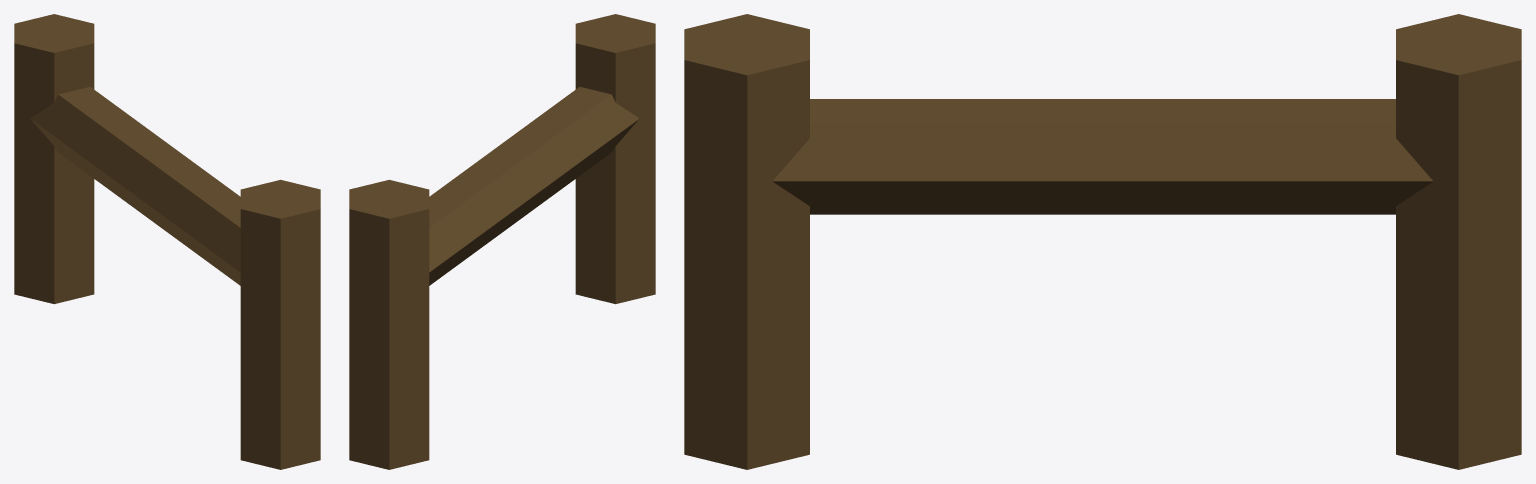
File: Fence.fbx
3 views of the same model, side by side, from view 1: azimuth 30°, elevation 25°; view 2: azimuth 150°, elevation 25°; view 3: azimuth 270°, elevation 25° (orthographic). The views are drawn at different scales.
Visible parts, largest first — view 1: Fence; view 2: Fence; view 3: Fence.
Part boxes in pixels (bbox=[...]): Fence: bbox=[14, 14, 320, 469]; Fence: bbox=[349, 14, 655, 469]; Fence: bbox=[684, 14, 1521, 469].
Size of the model in its own units: 20 by 60 by 115.
